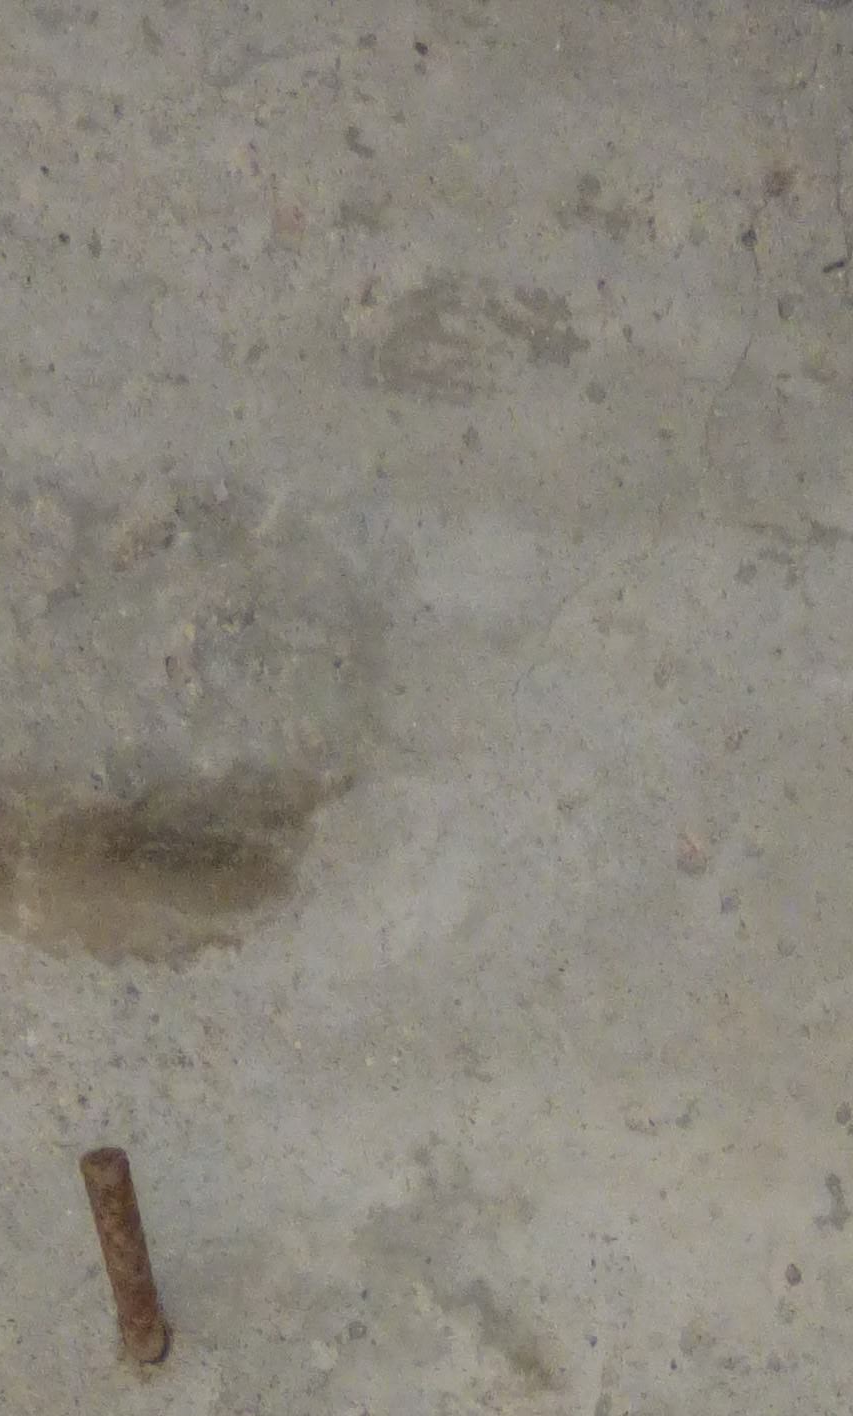Exposed reinforcement: (80, 1146, 166, 1362)
